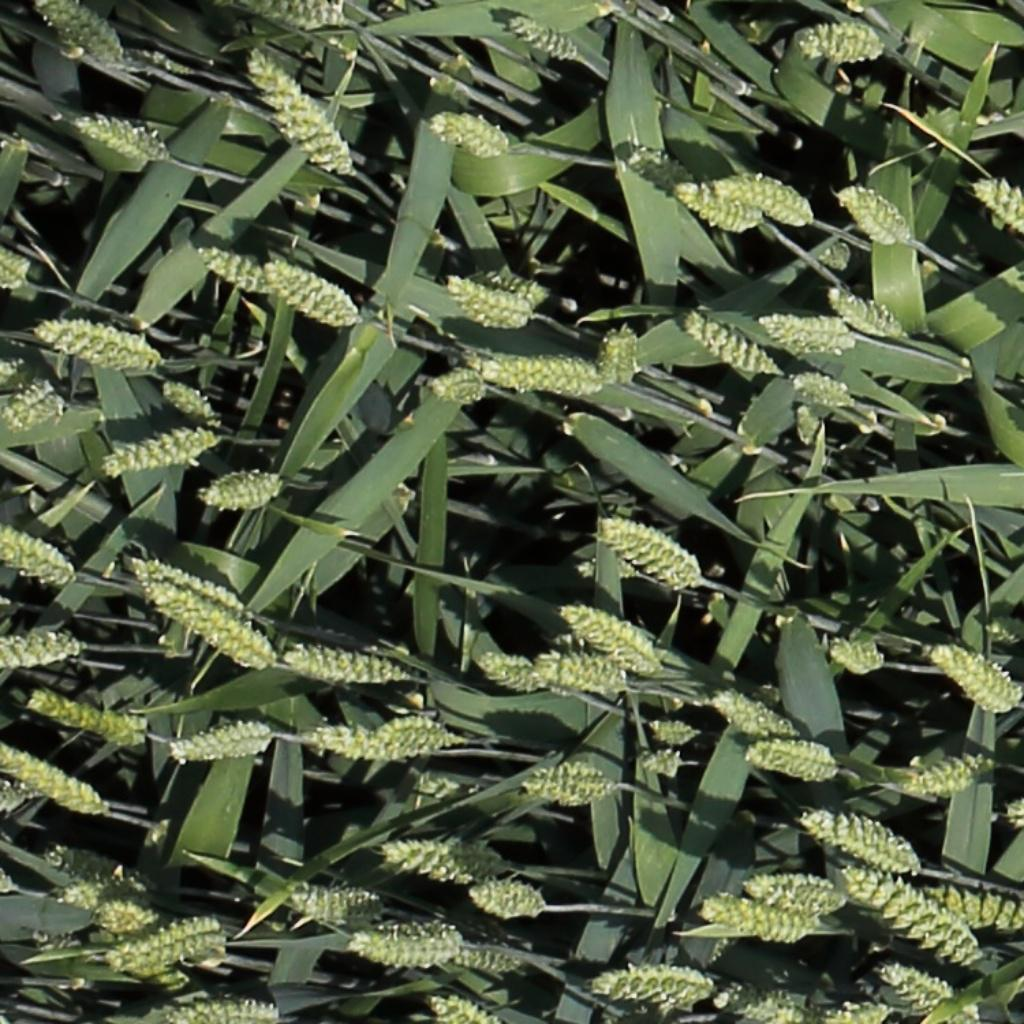0-0: (844, 863, 986, 968), (241, 47, 350, 170), (146, 584, 277, 674), (917, 636, 1024, 719), (106, 914, 232, 982), (554, 602, 668, 675), (598, 516, 706, 593), (800, 811, 919, 876), (467, 340, 607, 394), (260, 260, 369, 329), (31, 315, 165, 370), (0, 748, 102, 815), (710, 167, 817, 230), (381, 834, 517, 883), (345, 921, 470, 974), (696, 892, 817, 946), (918, 876, 1024, 937), (101, 420, 225, 472), (279, 641, 414, 688), (29, 1, 128, 65), (591, 962, 725, 1009), (298, 715, 422, 765), (682, 311, 778, 375), (517, 754, 624, 810), (56, 40, 202, 81), (282, 876, 391, 930), (442, 272, 540, 332), (132, 558, 240, 612), (25, 692, 140, 742), (741, 864, 849, 917), (738, 732, 844, 785), (895, 747, 997, 798), (1, 527, 84, 588), (58, 872, 163, 920), (532, 648, 635, 696), (677, 180, 764, 236), (167, 720, 277, 764), (75, 113, 167, 164), (707, 983, 820, 1024), (192, 244, 285, 293), (793, 16, 885, 65), (763, 316, 863, 361), (471, 262, 553, 315), (826, 288, 905, 341), (472, 645, 553, 696), (838, 185, 909, 243), (619, 140, 698, 192), (878, 959, 961, 1008), (107, 942, 190, 991), (468, 872, 550, 920), (715, 694, 797, 741), (0, 625, 89, 668), (196, 468, 282, 511), (158, 996, 286, 1024), (428, 111, 509, 155), (373, 713, 459, 753), (506, 12, 577, 60), (2, 378, 67, 429), (598, 321, 644, 390), (825, 633, 894, 677), (428, 366, 495, 410), (972, 178, 1024, 233), (84, 897, 163, 933), (42, 842, 122, 877), (155, 378, 214, 425), (247, 0, 346, 27), (817, 993, 895, 1024), (0, 235, 37, 297), (448, 945, 521, 974), (427, 995, 496, 1024), (638, 748, 689, 785), (0, 774, 46, 814), (790, 375, 851, 405), (790, 395, 821, 451), (647, 719, 701, 747), (1006, 805, 1024, 842)
